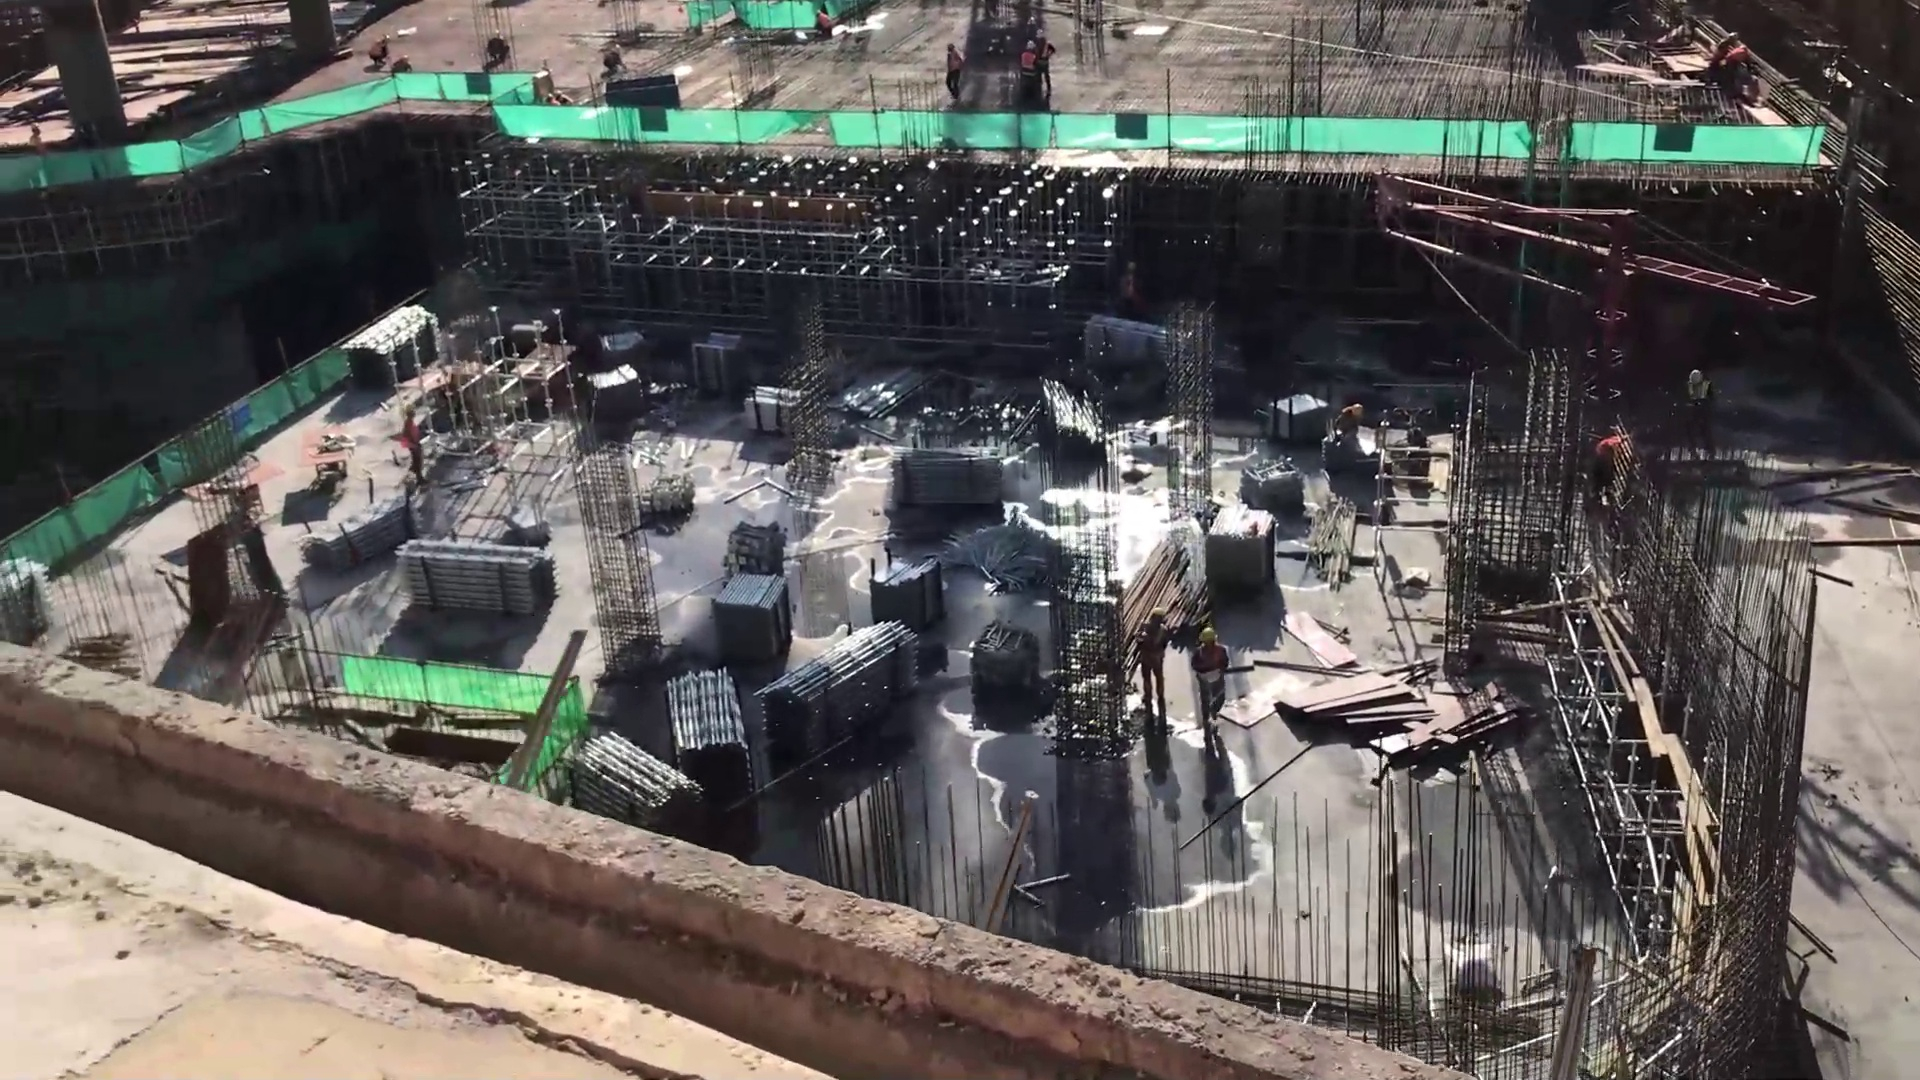board: (1301, 628, 1480, 761)
helmet: (1141, 604, 1170, 633), (1188, 628, 1215, 649), (395, 400, 417, 422), (1685, 368, 1705, 385), (1032, 27, 1045, 42), (1023, 41, 1037, 52)
person: (1193, 629, 1234, 754), (1134, 602, 1173, 726), (396, 405, 429, 483), (1722, 40, 1758, 95), (1034, 29, 1057, 96), (1331, 399, 1366, 440), (941, 42, 965, 102), (1021, 41, 1042, 102), (363, 31, 392, 67)
rebar: (1110, 519, 1201, 630)
scaffold: (761, 626, 951, 745), (571, 714, 693, 825), (397, 528, 538, 610), (875, 449, 1015, 524), (296, 505, 417, 579), (336, 298, 446, 373), (671, 667, 752, 757), (1200, 501, 1283, 575), (1234, 448, 1304, 520), (969, 625, 1035, 699), (865, 554, 935, 623), (687, 331, 751, 405), (720, 574, 786, 633), (580, 365, 645, 419), (724, 524, 780, 567), (635, 468, 685, 518), (746, 382, 799, 428)
vest: (401, 419, 416, 447), (1019, 53, 1034, 78)
wood: (1312, 494, 1355, 588)
